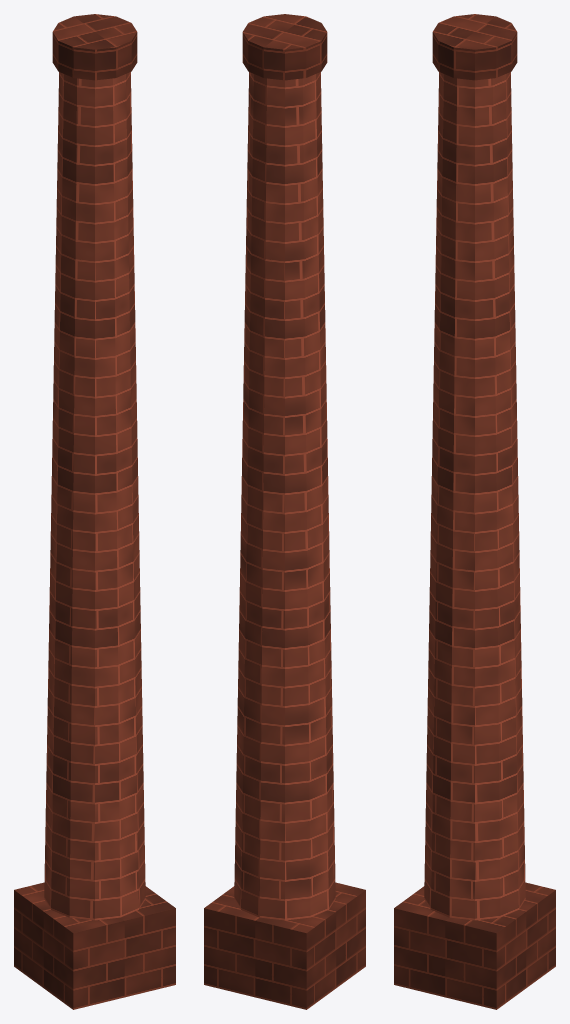
The model's file is komin.glb.
3 views of the same model, side by side, from view 1: azimuth 30°, elevation 25°; view 2: azimuth 150°, elevation 25°; view 3: azimuth 330°, elevation 25° (orthographic).
Parts seen in each view (by area): view 1: komin; view 2: komin; view 3: komin.
Part boxes in pixels (left/top/right/bottom): komin: left=14, top=14, right=175, bottom=1009; komin: left=204, top=14, right=365, bottom=1009; komin: left=394, top=14, right=555, bottom=1009.
Bounding box in the file's own units: 1.4 × 12.3 × 1.4.
Materials: 2 (2 with a texture image).
